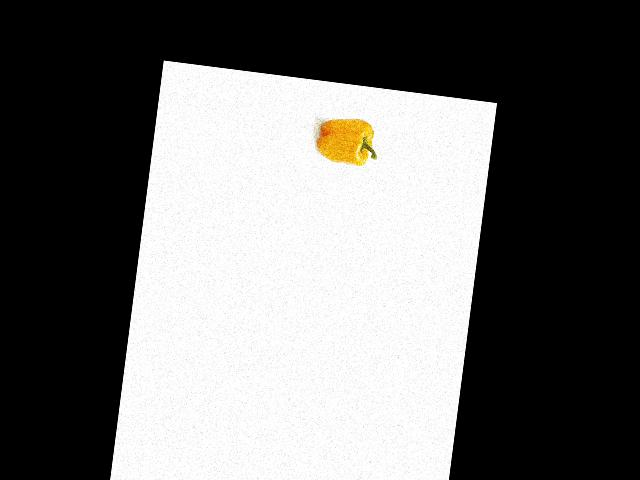bell_pepper: (313, 113, 384, 174)
